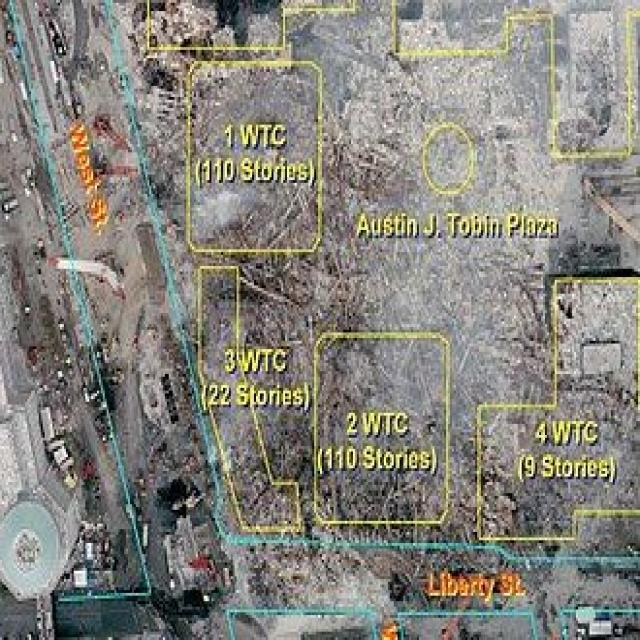collapsed_building: (130, 0, 638, 537)
